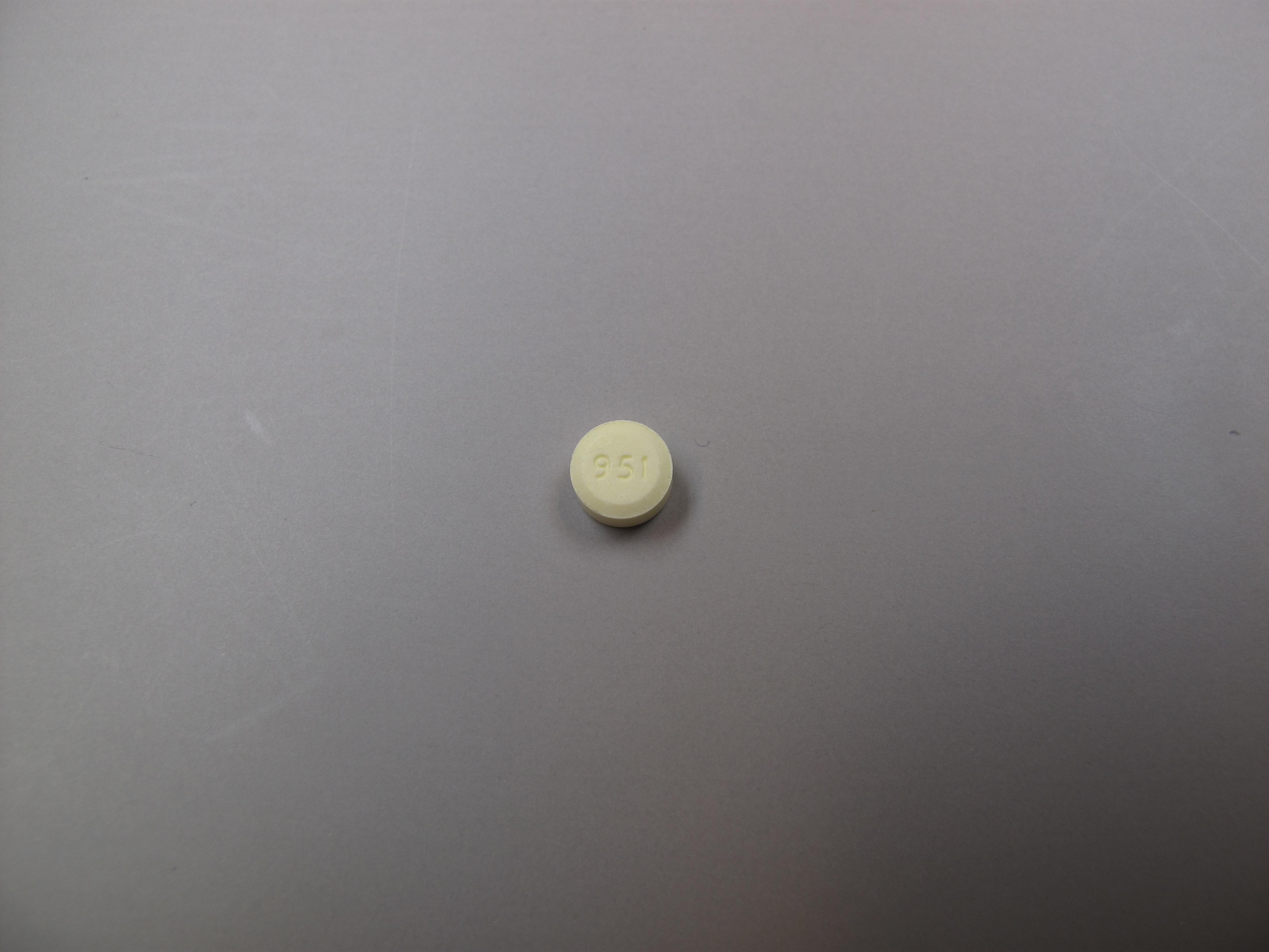Pill: (563, 414, 680, 535)
